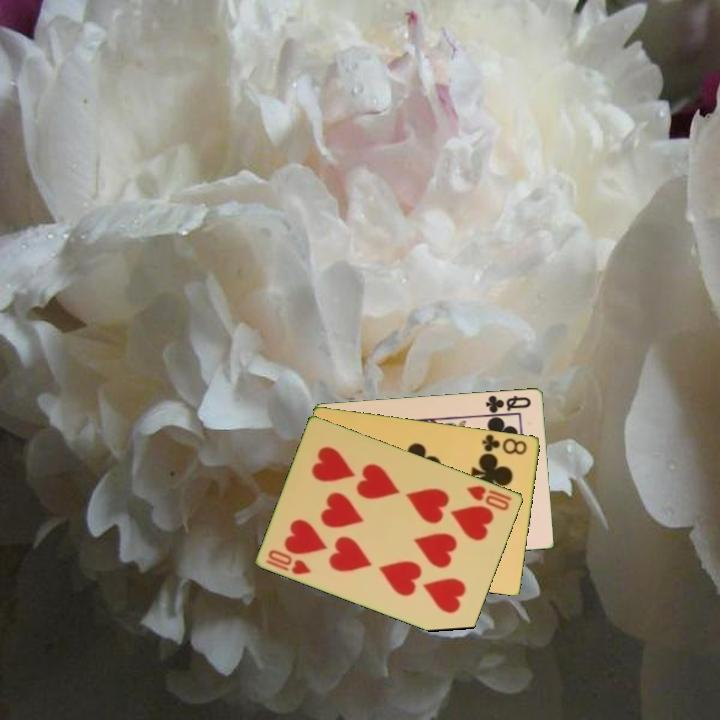10h: (262, 546, 315, 577), (464, 481, 515, 513)
8c: (479, 430, 530, 457)
Qc: (482, 391, 534, 416)
